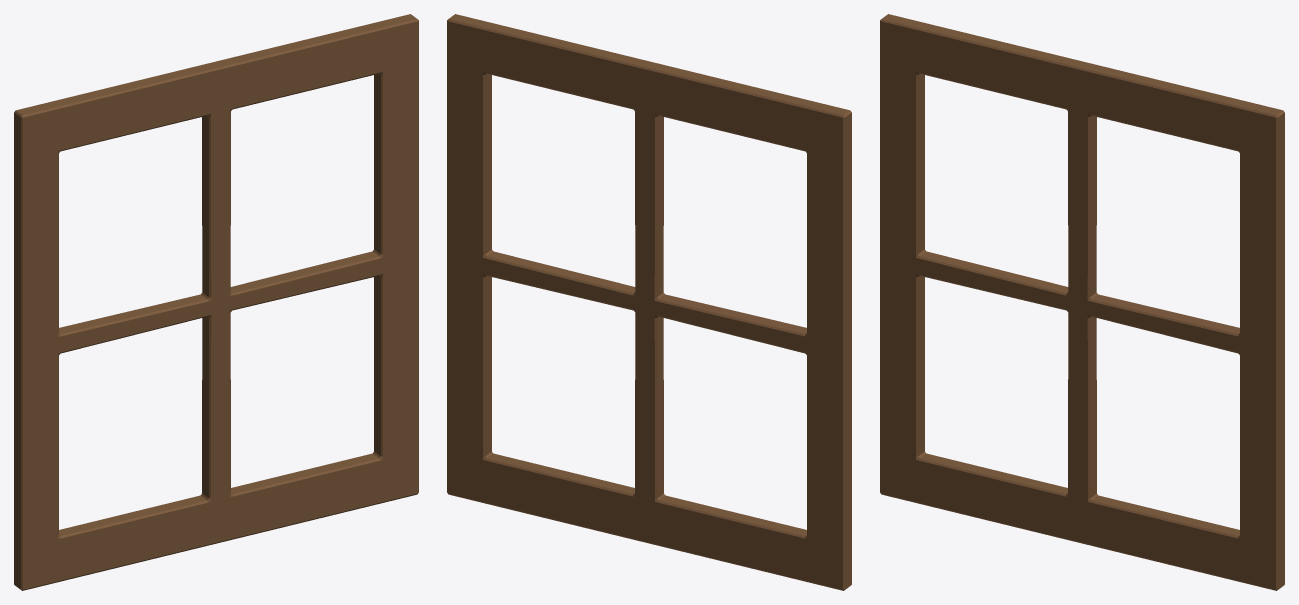
The model's file is FensterSchlafzimmer.fbx.
3 renders of one model, left to right at view 1: azimuth 30°, elevation 25°; view 2: azimuth 150°, elevation 25°; view 3: azimuth 330°, elevation 25°, orthographic.
Parts seen in each view (by area): view 1: Fenster_Rahmen_Hinterzimmer; view 2: Fenster_Rahmen_Hinterzimmer; view 3: Fenster_Rahmen_Hinterzimmer.
Part boxes in pixels (bbox=[...]): Fenster_Rahmen_Hinterzimmer: bbox=[14, 14, 418, 590]; Fenster_Rahmen_Hinterzimmer: bbox=[447, 14, 851, 590]; Fenster_Rahmen_Hinterzimmer: bbox=[880, 14, 1284, 590].
Bounding box in the file's own units: 102 × 117 × 3.68.
